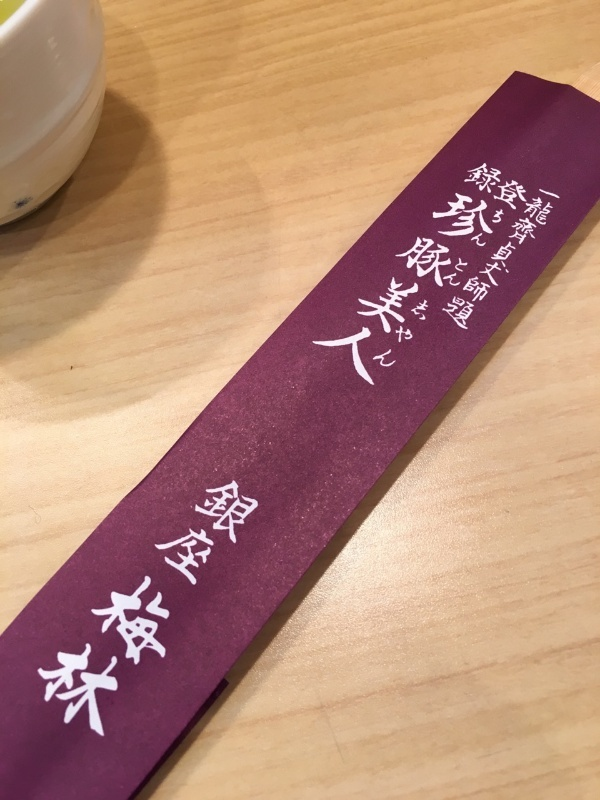text: (33, 469, 48, 789), (49, 469, 64, 789), (65, 469, 80, 789), (81, 469, 96, 789), (97, 469, 112, 789), (113, 469, 128, 789), (129, 469, 144, 789), (145, 469, 160, 789), (161, 469, 176, 789), (177, 469, 192, 789), (193, 469, 208, 789), (209, 469, 224, 789), (225, 469, 240, 789), (241, 469, 256, 789), (321, 188, 336, 402), (337, 188, 352, 402), (353, 188, 368, 402), (369, 188, 384, 402), (385, 188, 400, 402), (401, 188, 416, 402), (417, 188, 432, 402), (433, 188, 448, 402), (449, 188, 464, 402), (465, 188, 480, 402), (481, 188, 496, 402), (308, 188, 320, 402), (449, 183, 464, 339), (465, 183, 480, 339), (481, 183, 496, 339), (497, 183, 512, 339), (513, 183, 528, 339), (529, 183, 544, 339), (545, 183, 560, 339), (497, 188, 506, 402), (439, 183, 448, 339), (385, 295, 400, 379), (401, 295, 416, 379), (417, 295, 432, 379), (372, 295, 384, 379), (481, 155, 496, 216), (497, 155, 512, 216), (513, 155, 528, 216), (481, 201, 496, 257), (561, 183, 566, 339), (497, 201, 509, 257), (257, 469, 259, 789), (469, 201, 480, 257), (449, 254, 464, 294), (31, 469, 32, 789), (529, 155, 534, 216), (465, 254, 471, 294), (443, 254, 448, 294), (433, 295, 434, 379)
